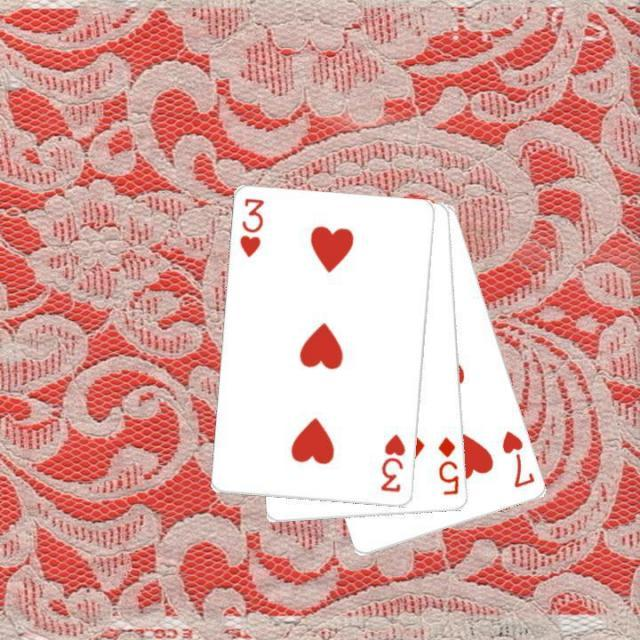3H: (236, 194, 266, 260), (377, 430, 407, 494)
5D: (434, 434, 462, 497)
7H: (498, 426, 537, 491)
